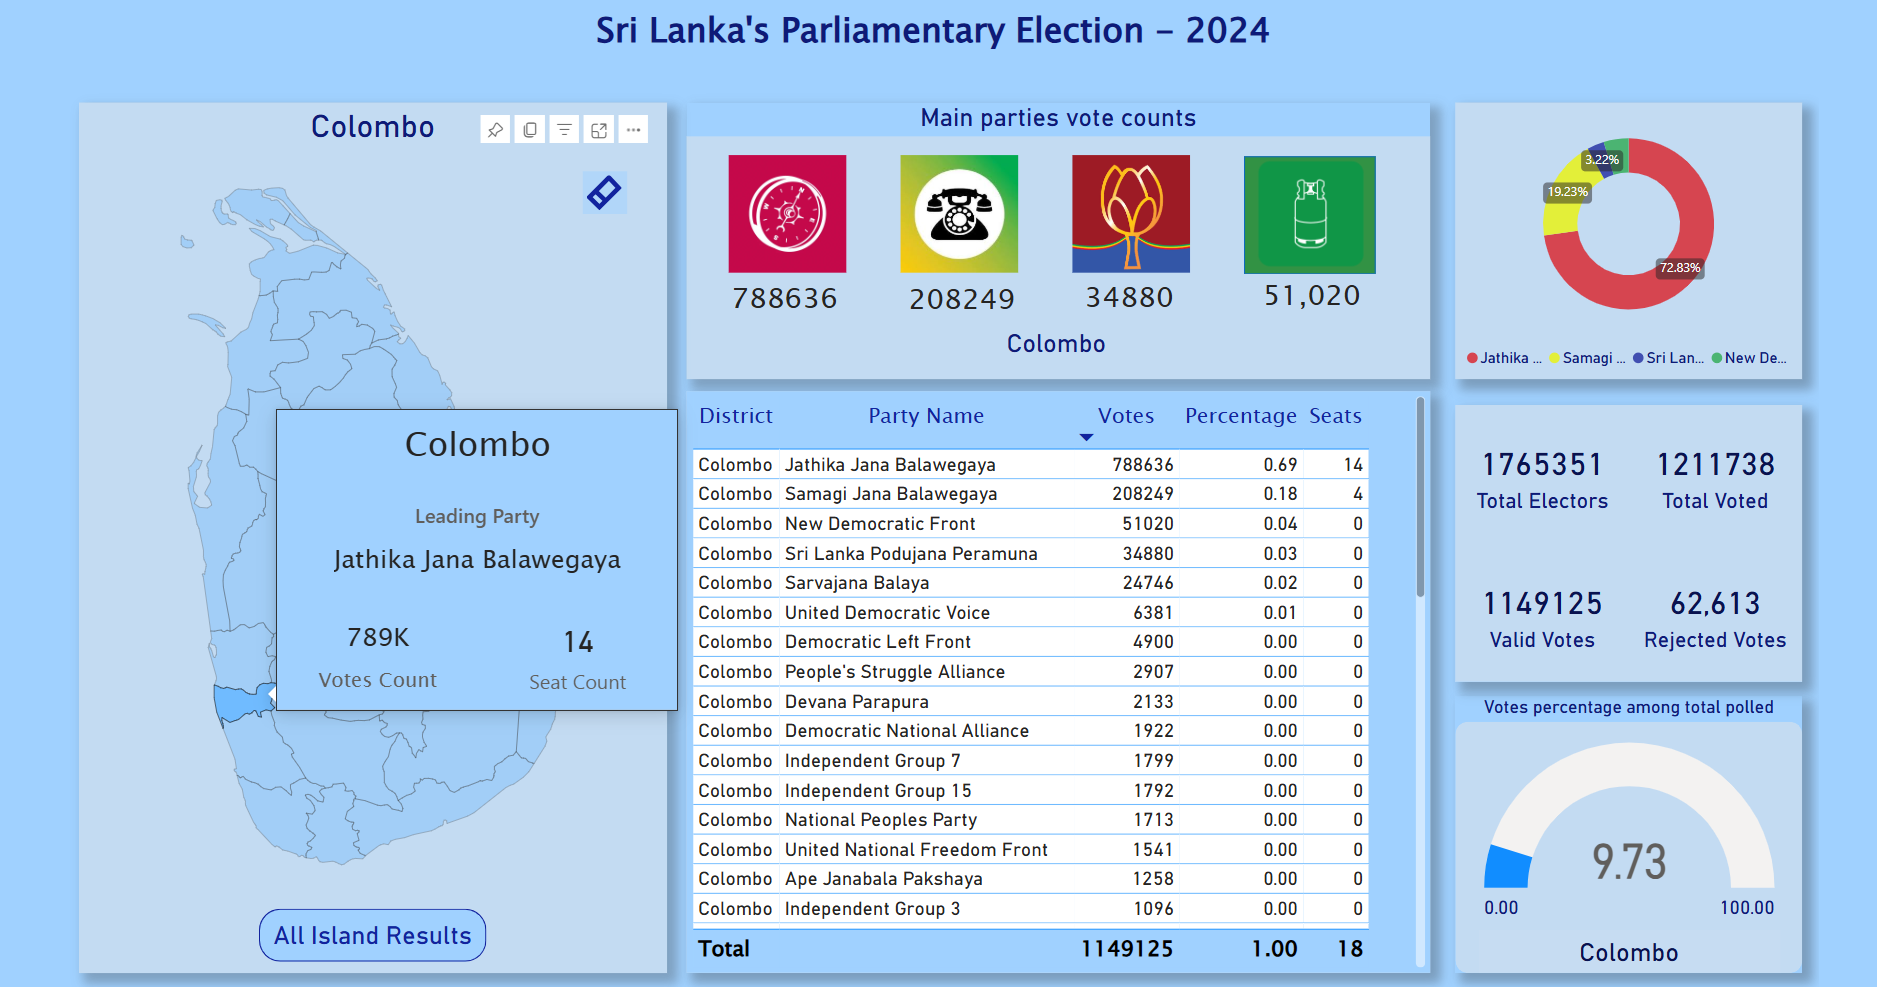

This screenshot's page, from the dashboard's own definition file:
{"tool":"powerbi","page":{"name":"District Results","canvas":[1664,936],"ordinal":0},"visuals":[{"type":"shape","box":[19.4,97,556.3,823.1],"z":0},{"type":"textbox","box":[0,0,1664,69.5],"z":1000},{"type":"shape","title":"Main parties vote counts","box":[593.5,97,703.5,262],"z":2000},{"type":"card","fields":{"Values":["PartyVotesTable.Samagi Jana Balawegaya Votes (Selected)"]},"box":[791.2,246.4,124.2,72.3],"z":3000},{"type":"card","fields":{"Values":["PartyVotesTable.Sri Lanka Podujana Peramuna Votes (Selected)"]},"box":[948.7,244.6,126,72.3],"z":4000},{"type":"card","fields":{"Values":["PartyVotesTable.New Democratic Front Votes (Selected)"]},"box":[1110,244.6,150.1,68.6],"z":5000},{"type":"card","fields":{"Values":["PartyVotesTable.Jathika Jana Balawegaya Votes (Selected)"]},"box":[620.8,246.4,131.6,70.4],"z":6000},{"type":"card","fields":{"Values":["PartyVotesTable.Selected District Debug"]},"box":[600,300.8,685.7,45.3],"z":7000},{"type":"shape","box":[1120.7,147.2,124.5,111.6],"z":8000},{"type":"shape","box":[593.5,370.3,703.5,549.8],"z":9000},{"type":"tableEx","fields":{"Values":["district_results.district","district_results.party_name","Sum(district_results.votes)","Sum(district_results.percentage)","Sum(district_results.seats)"]},"box":[593.5,370.3,703.5,549.8],"z":10000},{"type":"shapeMap","title":"Select a district to show results","fields":{"Category":["district_results.district"]},"box":[37.2,137.5,520.7,721.2],"z":11000},{"type":"shape","title":"Votes percentage among total polled","box":[1319.6,658.2,328.3,262],"z":12000},{"type":"gauge","fields":{"Y":["district_results.DistrictVotePercentage"]},"box":[1342.2,692.1,284.6,187.6],"z":13000},{"type":"card","fields":{"Values":["PartyVotesTable.Selected District Debug"]},"box":[1342.2,879.7,284.6,40.4],"z":14000},{"type":"donutChart","fields":{"Y":["PartyVotesTable.Jathika Jana Balawegaya Votes (Selected)","PartyVotesTable.Samagi Jana Balawegaya Votes (Selected)","PartyVotesTable.Sri Lanka Podujana Peramuna Votes (Selected)","PartyVotesTable.New Democratic Front Votes (Selected)"]},"box":[1319.6,97,328.3,262],"z":15000},{"type":"image","box":[600,142.3,176.3,121.3],"z":16000},{"type":"image","box":[776.2,142.3,150.4,121.3],"z":17000},{"type":"image","box":[952.5,142.3,122.9,121.3],"z":18000},{"type":"image","box":[1106.1,140.7,153.6,122.9],"z":19000},{"type":"shape","box":[1319.6,383.3,328.3,262],"z":20000},{"type":"card","fields":{"Values":["polledDetails.Total_Electors"]},"box":[1319.6,383.3,164.9,131],"z":21000},{"type":"card","fields":{"Values":["polledDetails.Total_Polled"]},"box":[1484.5,383.3,163.3,131],"z":22000},{"type":"card","fields":{"Values":["polledDetails.Valid_Votes"]},"box":[1319.6,514.3,164.9,131],"z":23000},{"type":"card","fields":{"Values":["polledDetails.Rejected_Votes"]},"box":[1484.5,514.3,163.3,131],"z":24000},{"type":"card","fields":{"Values":["PartyVotesTable.Selected District Debug"]},"box":[19.4,97,556.3,40.4],"z":25000},{"type":"pageNavigator","box":[189.2,858.7,215.1,50.1],"z":26000},{"type":"actionButton","box":[494.8,161.7,42,40.4],"z":27000}]}

Visuals, with their boxes on the page's 1664x936 design canvas (x1, y1, x2, y2). These are canvas units, not pixel positions in the 1877x987 screenshot, which may show the page scaled, cropped or inside an application window:
shape: <bbox>19, 97, 576, 920</bbox>
textbox: <bbox>0, 0, 1664, 70</bbox>
"Main parties vote counts" shape: <bbox>594, 97, 1297, 359</bbox>
card - PartyVotesTable.Samagi Jana Balawegaya Votes (Selected): <bbox>791, 246, 915, 319</bbox>
card - PartyVotesTable.Sri Lanka Podujana Peramuna Votes (Selected): <bbox>949, 245, 1075, 317</bbox>
card - PartyVotesTable.New Democratic Front Votes (Selected): <bbox>1110, 245, 1260, 313</bbox>
card - PartyVotesTable.Jathika Jana Balawegaya Votes (Selected): <bbox>621, 246, 752, 317</bbox>
card - PartyVotesTable.Selected District Debug: <bbox>600, 301, 1286, 346</bbox>
shape: <bbox>1121, 147, 1245, 259</bbox>
shape: <bbox>594, 370, 1297, 920</bbox>
tableEx - district_results.district x district_results.party_name: <bbox>594, 370, 1297, 920</bbox>
"Select a district to show results" shapeMap: <bbox>37, 138, 558, 859</bbox>
"Votes percentage among total polled" shape: <bbox>1320, 658, 1648, 920</bbox>
gauge - district_results.DistrictVotePercentage: <bbox>1342, 692, 1627, 880</bbox>
card - PartyVotesTable.Selected District Debug: <bbox>1342, 880, 1627, 920</bbox>
donutChart - PartyVotesTable.Jathika Jana Balawegaya Votes (Selected) x PartyVotesTable.Samagi Jana Balawegaya Votes (Selected): <bbox>1320, 97, 1648, 359</bbox>
image: <bbox>600, 142, 776, 264</bbox>
image: <bbox>776, 142, 927, 264</bbox>
image: <bbox>952, 142, 1075, 264</bbox>
image: <bbox>1106, 141, 1260, 264</bbox>
shape: <bbox>1320, 383, 1648, 645</bbox>
card - polledDetails.Total_Electors: <bbox>1320, 383, 1484, 514</bbox>
card - polledDetails.Total_Polled: <bbox>1484, 383, 1648, 514</bbox>
card - polledDetails.Valid_Votes: <bbox>1320, 514, 1484, 645</bbox>
card - polledDetails.Rejected_Votes: <bbox>1484, 514, 1648, 645</bbox>
card - PartyVotesTable.Selected District Debug: <bbox>19, 97, 576, 137</bbox>
pageNavigator: <bbox>189, 859, 404, 909</bbox>
actionButton: <bbox>495, 162, 537, 202</bbox>
